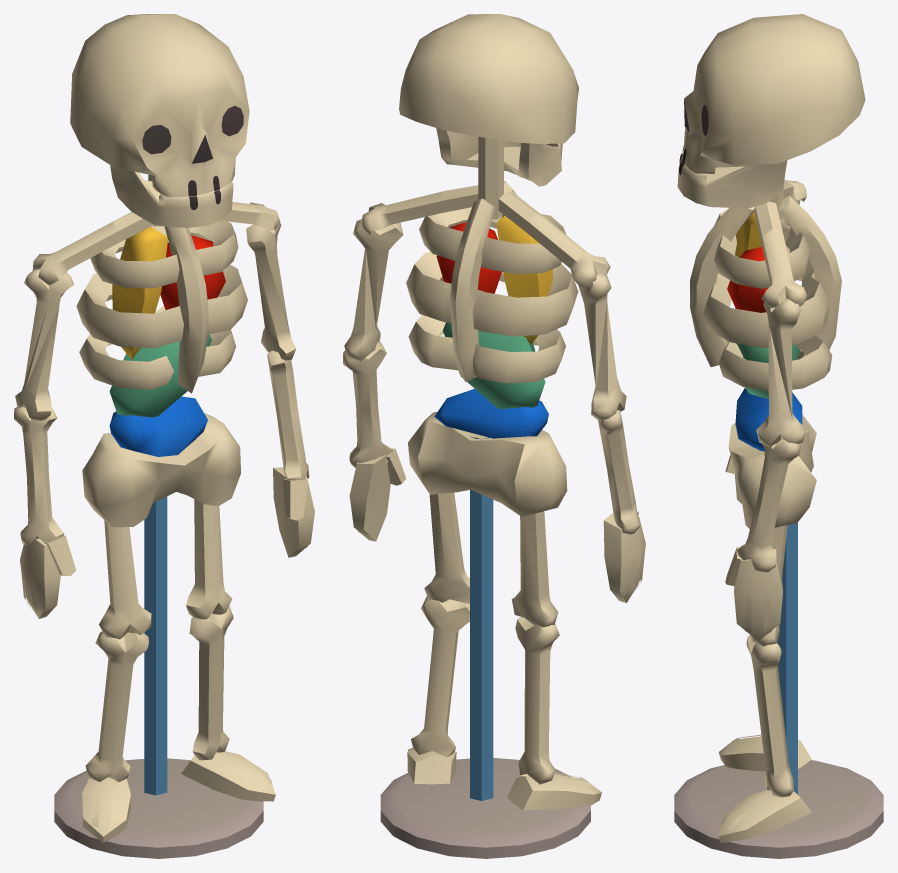
Rendered from office_skeleton.fbx.
The picture shows the model from 3 angles, left to right: view 1: azimuth 30°, elevation 25°; view 2: azimuth 150°, elevation 25°; view 3: azimuth 270°, elevation 25°; orthographic projection.
Visible parts, largest first — view 1: medic_skeleton; view 2: medic_skeleton; view 3: medic_skeleton.
Part boxes in pixels (left/top/right/bottom): medic_skeleton: left=14, top=14, right=314, bottom=858; medic_skeleton: left=343, top=14, right=645, bottom=858; medic_skeleton: left=674, top=14, right=883, bottom=858.
Bounding box in the file's own units: 0.7136 × 1.88 × 0.4497.
